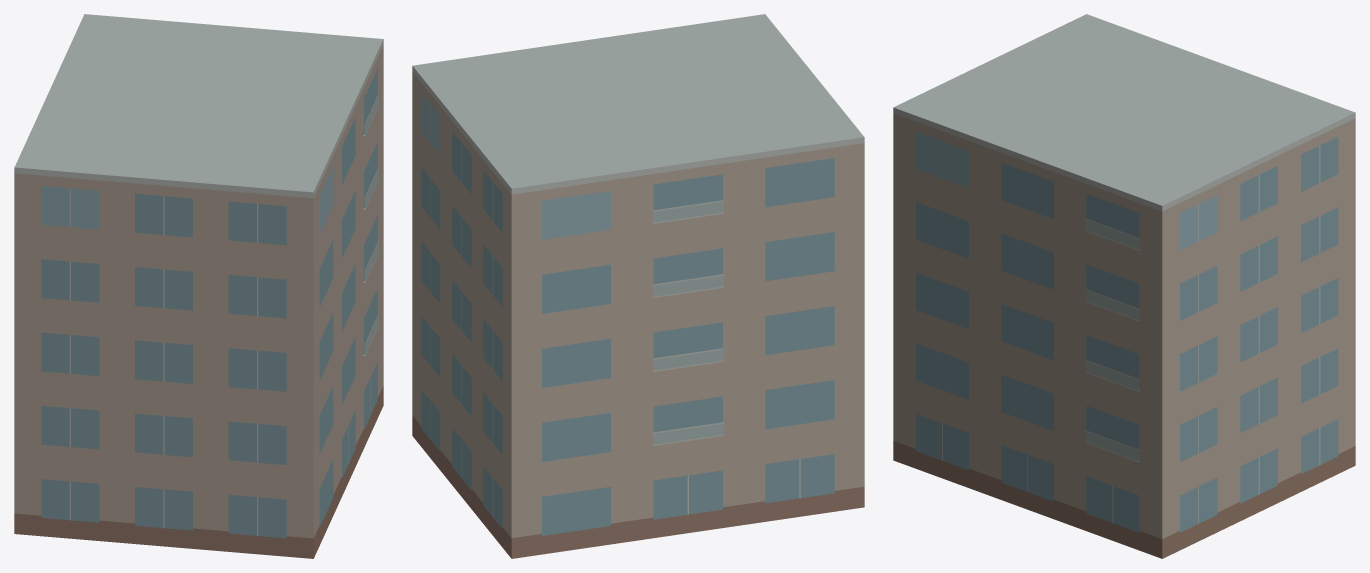
Rendered from survey-upis-32945715.glb.
The picture shows the model from 3 angles, left to right: view 1: azimuth 30°, elevation 25°; view 2: azimuth 150°, elevation 25°; view 3: azimuth 270°, elevation 25°; orthographic projection. The views are drawn at different scales.
Visible parts, largest first — view 1: survey-upis-32945715.tmp; view 2: survey-upis-32945715.tmp; view 3: survey-upis-32945715.tmp.
Boxes of the visible parts, box(x1,y1,x2,y2) form: survey-upis-32945715.tmp: box(14, 14, 383, 558); survey-upis-32945715.tmp: box(412, 14, 864, 558); survey-upis-32945715.tmp: box(893, 14, 1355, 558).
Bounding box in the file's own units: 17.85 × 15.3 × 18.17.
